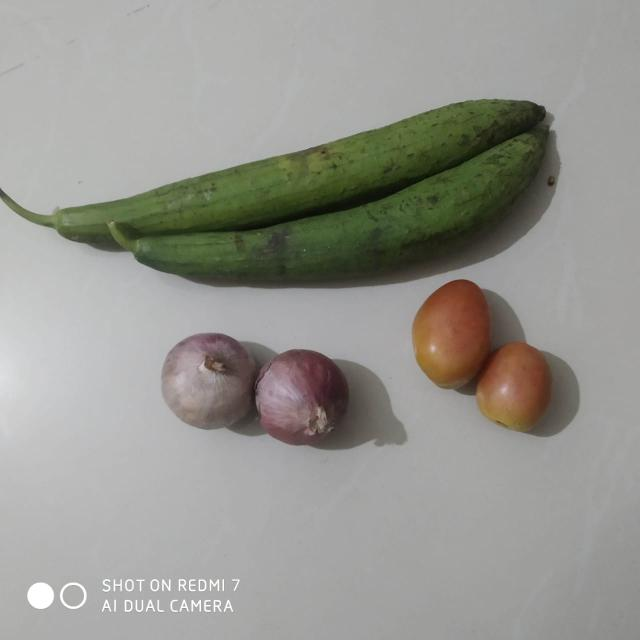Organik: (0, 80, 561, 287), (155, 328, 256, 434), (408, 274, 491, 394), (261, 348, 352, 450), (470, 342, 551, 440)
